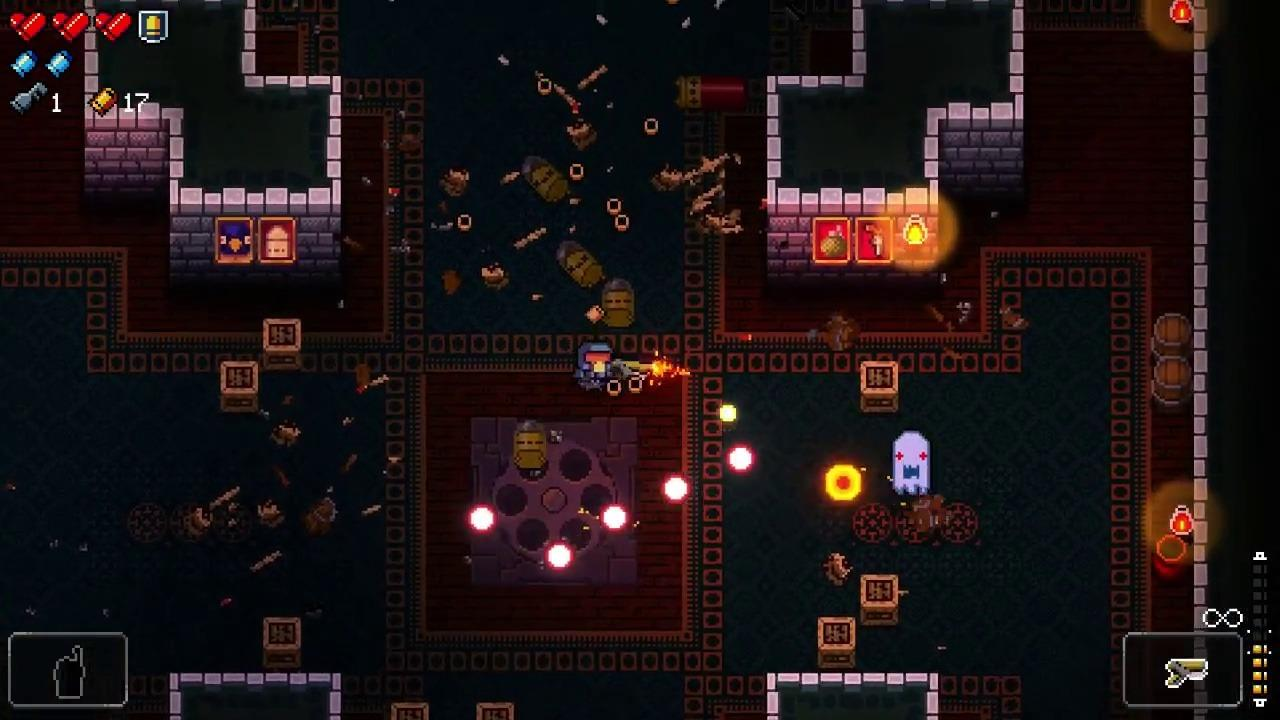bullet: (543, 539, 574, 571), (465, 504, 499, 532), (727, 443, 755, 475), (664, 474, 691, 505), (603, 503, 627, 531)
dead_bullet_kin: (554, 239, 606, 288), (519, 154, 572, 202), (601, 280, 635, 327), (517, 421, 548, 470)
dead_red_shotgun_kin: (675, 76, 746, 113)
hollowpoint: (892, 429, 930, 493)
player: (576, 343, 613, 394)
teleporter: (471, 416, 638, 589)
